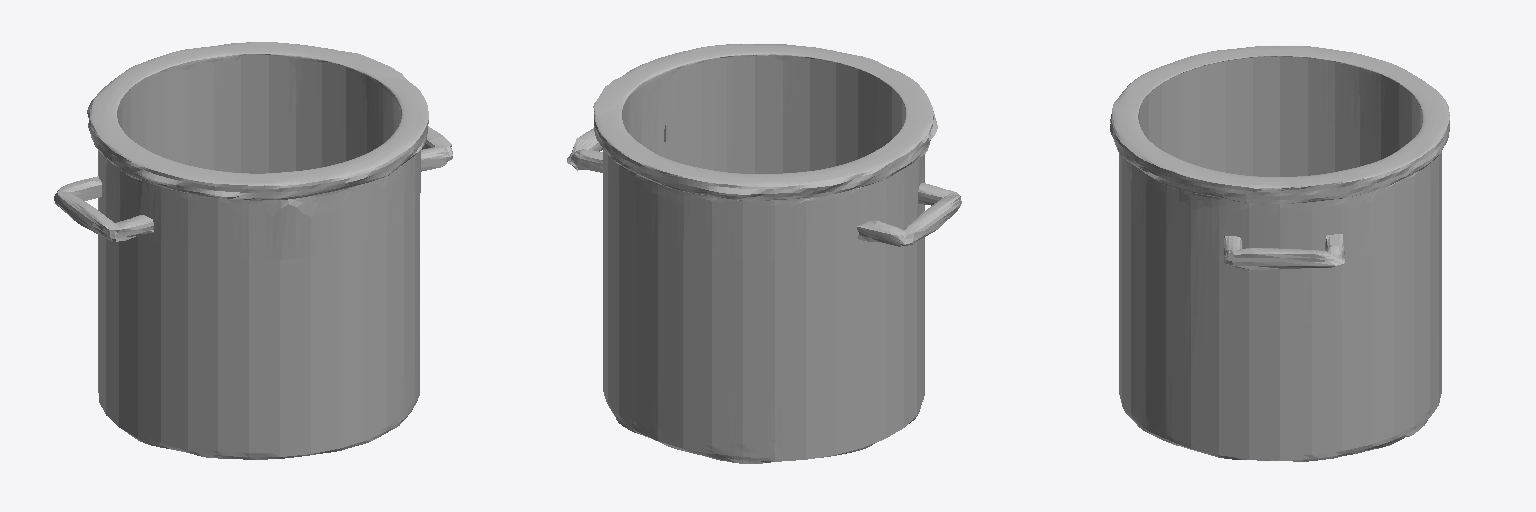
The model's file is pot2.0.obj.
3 views of the same model, side by side, from view 1: azimuth 30°, elevation 25°; view 2: azimuth 150°, elevation 25°; view 3: azimuth 270°, elevation 25° (orthographic).
Visible parts, largest first — view 1: Cylinder; view 2: Cylinder; view 3: Cylinder.
Part boxes in pixels (left/top/right/bottom): Cylinder: left=54, top=42, right=452, bottom=459; Cylinder: left=567, top=44, right=961, bottom=463; Cylinder: left=1110, top=46, right=1449, bottom=461.
Bounding box in the file's own units: 2.5 × 1.95 × 2.11.